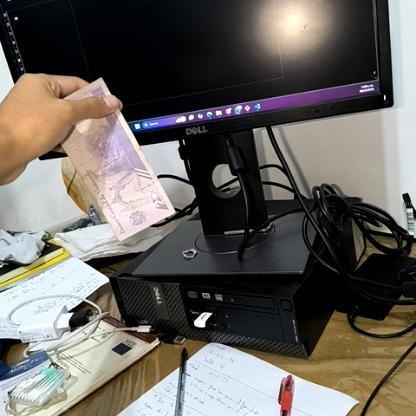ten-back-vef: (55, 78, 176, 240)
